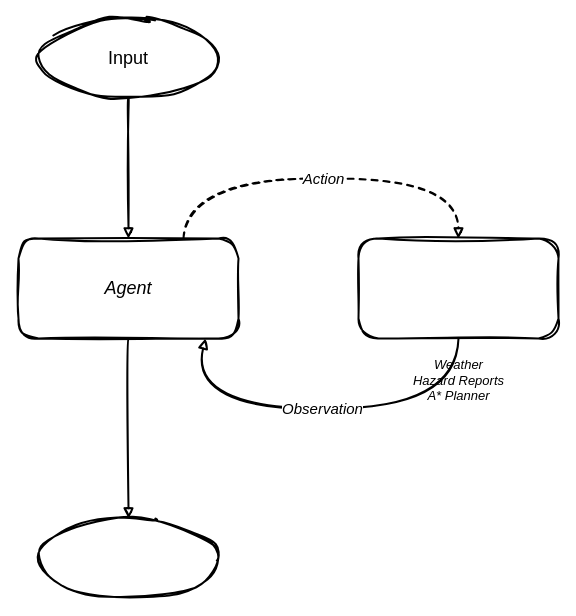
This 576x616 diagram has some shape labels left out. Here are the shapes that lost their labels. From the top down, the box of each, then its label:
(357, 237, 559, 339): Tool Execution
(37, 517, 219, 599): Output
